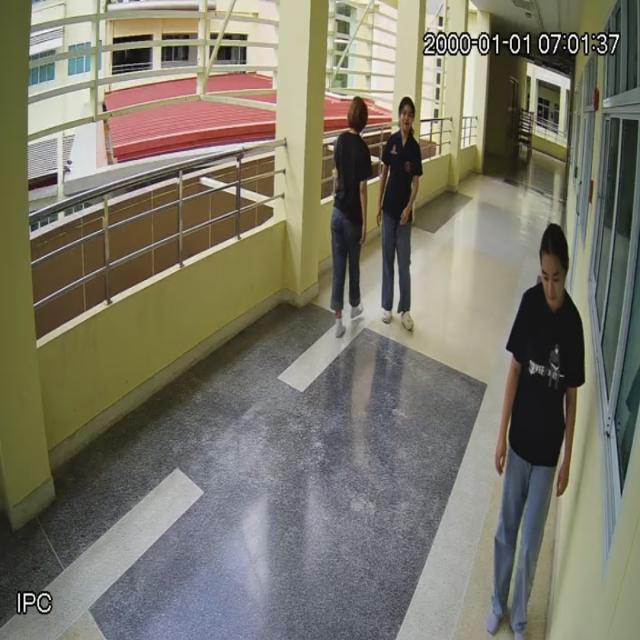normal: (475, 218, 590, 640), (377, 94, 428, 334), (329, 91, 371, 341)
